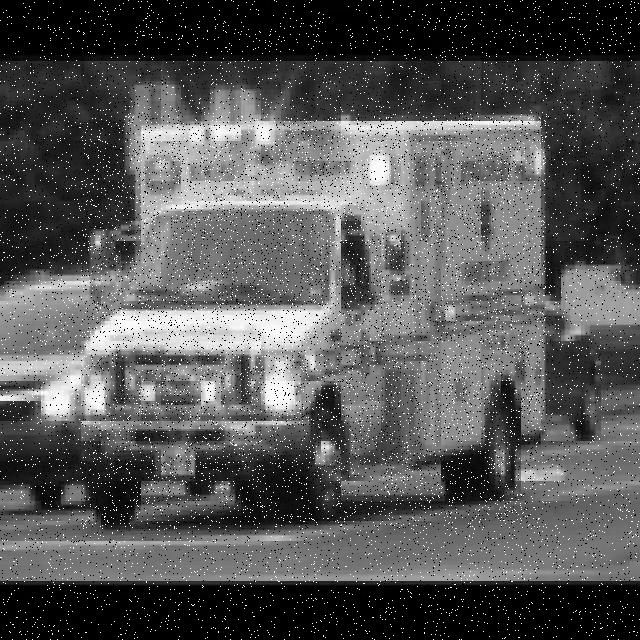Ambulance: (81, 116, 546, 528)
